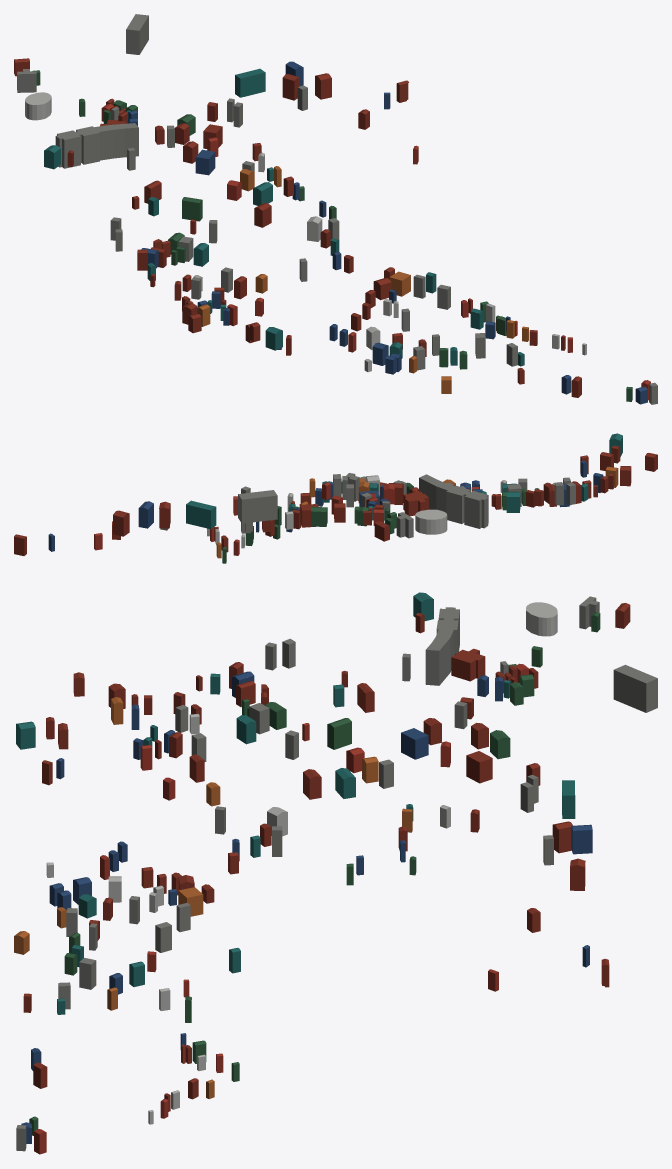
File: near-16-54727-29738.1cb05c74.glb
3 renders of one model, top to bottom at view 1: azimuth 30°, elevation 25°; view 2: azimuth 150°, elevation 25°; view 3: azimuth 270°, elevation 25°, orthographic. The views are drawn at different scales.
Size of the model in its own units: 595 by 333 by 606.
